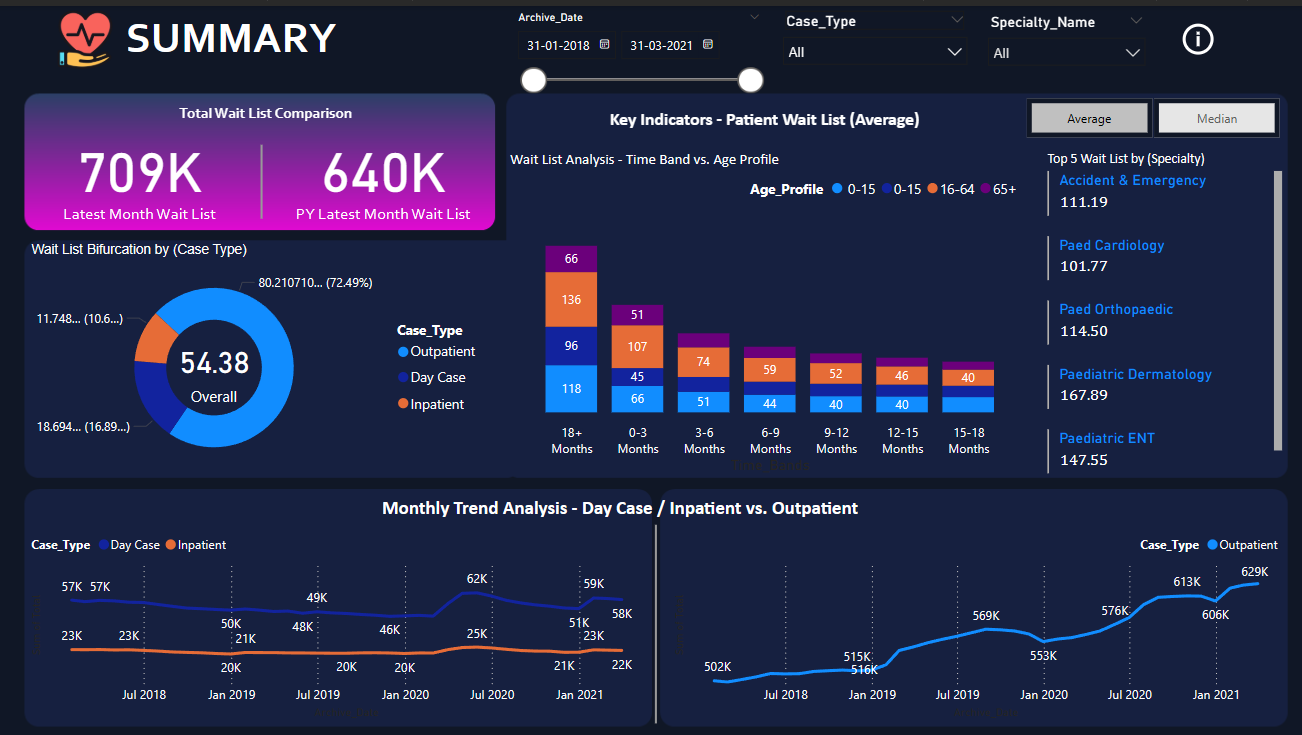

The page's visual inventory and layout, read from the dashboard file:
{"tool":"powerbi","page":{"name":"SUMMARY","canvas":[1280,720],"ordinal":0},"visuals":[{"type":"card","fields":{"Values":["Measure.Latest Month Wait List"]},"box":[17.5,110,240,111.2],"z":0},{"type":"card","fields":{"Values":["Measure.PY Latest Month Wait List"]},"box":[256.2,110,240,111.2],"z":1000},{"type":"slicer","fields":{"Values":["Calculation Method.Calc Method"]},"box":[981.2,83.8,298.8,52.5],"z":2000},{"type":"donutChart","title":"Wait List Bifurcation by (Case Type)","fields":{"Category":["All_Data.Case_Type"],"Y":["Measure.Avg/Med Wait List"]},"box":[26.2,232.5,455,231.2],"z":3000},{"type":"columnChart","title":"Wait List Analysis - Time Band vs. Age Profile","fields":{"Y":["Measure.Avg/Med Wait List"],"Category":["All_Data.Time_Bands"],"Series":["All_Data.Age_Profile"]},"box":[496.2,141.2,512.5,322.5],"z":4000},{"type":"multiRowCard","title":"Top 5 Wait List by (Specialty)","fields":{"Values":["Measure.Avg/Med Wait List","All_Data.Specialty_Name"]},"box":[1023.8,141.2,240,322.5],"z":5000},{"type":"lineChart","fields":{"Category":["All_Data.Archive_Date"],"Y":["Sum(All_Data.Total)"],"Series":["All_Data.Case_Type"]},"box":[26.2,508.8,613.8,195],"z":6000},{"type":"card","fields":{"Values":["Measure.NoDataRight"]},"box":[706.2,526.2,448.8,177.5],"z":7000},{"type":"card","fields":{"Values":["Measure.NoDataLeft"]},"box":[137.4,521.5,401.2,168.1],"z":8000},{"type":"lineChart","fields":{"Category":["All_Data.Archive_Date"],"Y":["Sum(All_Data.Total)"],"Series":["All_Data.Case_Type"]},"box":[656.2,508.8,607.5,195],"z":9000},{"type":"slicer","fields":{"Values":["All_Data.Archive_Date"]},"box":[496.2,0,262.5,96.2],"z":10000},{"type":"slicer","fields":{"Values":["All_Data.Case_Type"]},"box":[758.8,0,201.2,63.8],"z":11000},{"type":"slicer","fields":{"Values":["All_Data.Specialty_Name"]},"box":[960,2.5,175,63.8],"z":12000},{"type":"textbox","box":[0,0,453.8,63.8],"z":13000},{"type":"card","title":"Overall","fields":{"Values":["Measure.Avg/Med Wait List"]},"box":[163.8,317.5,94,82],"z":14000},{"type":"shape","box":[106.2,136.2,300,72.5],"z":15000},{"type":"shape","box":[496.2,508.8,296.2,195],"z":16000},{"type":"textbox","box":[310,476.2,596.2,32.5],"z":17000},{"type":"card","title":"Overall","fields":{"Values":["Measure.Dynamic Title"]},"box":[496.2,90,510,46.2],"z":18000},{"type":"textbox","box":[26.2,91.2,470,32.5],"z":19000},{"type":"actionButton","box":[1155.8,12.3,41.7,40.5],"z":20000},{"type":"image","box":[45.4,0,76.1,66.3],"z":21000}]}

Visuals, with their boxes in screenshot pixels (x1, y1, x2, y2), scaled from the page's 1280x720 canvas onto the 1302x735 screenshot:
card - Measure.Latest Month Wait List: <region>18, 112, 262, 226</region>
card - Measure.PY Latest Month Wait List: <region>261, 112, 505, 226</region>
slicer - Calculation Method.Calc Method: <region>998, 86, 1301, 139</region>
"Wait List Bifurcation by (Case Type)" donutChart: <region>27, 237, 489, 473</region>
"Wait List Analysis - Time Band vs. Age Profile" columnChart: <region>505, 144, 1026, 473</region>
"Top 5 Wait List by (Specialty)" multiRowCard: <region>1041, 144, 1286, 473</region>
lineChart - All_Data.Archive_Date x Sum(All_Data.Total): <region>27, 519, 651, 718</region>
card - Measure.NoDataRight: <region>718, 537, 1175, 718</region>
card - Measure.NoDataLeft: <region>140, 532, 548, 704</region>
lineChart - All_Data.Archive_Date x Sum(All_Data.Total): <region>667, 519, 1285, 718</region>
slicer - All_Data.Archive_Date: <region>505, 0, 772, 98</region>
slicer - All_Data.Case_Type: <region>772, 0, 976, 65</region>
slicer - All_Data.Specialty_Name: <region>976, 3, 1155, 68</region>
textbox: <region>0, 0, 462, 65</region>
"Overall" card: <region>167, 324, 262, 408</region>
shape: <region>108, 139, 413, 213</region>
shape: <region>505, 519, 806, 718</region>
textbox: <region>315, 486, 922, 519</region>
"Overall" card: <region>505, 92, 1023, 139</region>
textbox: <region>27, 93, 505, 126</region>
actionButton: <region>1176, 13, 1218, 54</region>
image: <region>46, 0, 124, 68</region>
